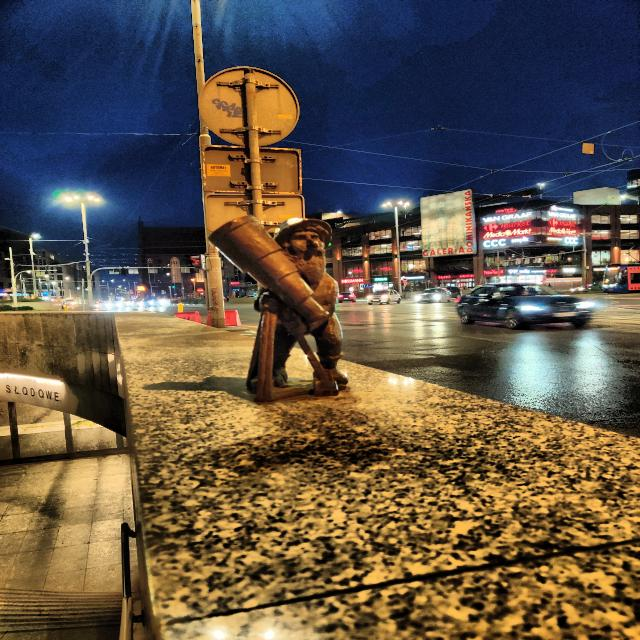Lunetyk: (209, 216, 348, 403)
